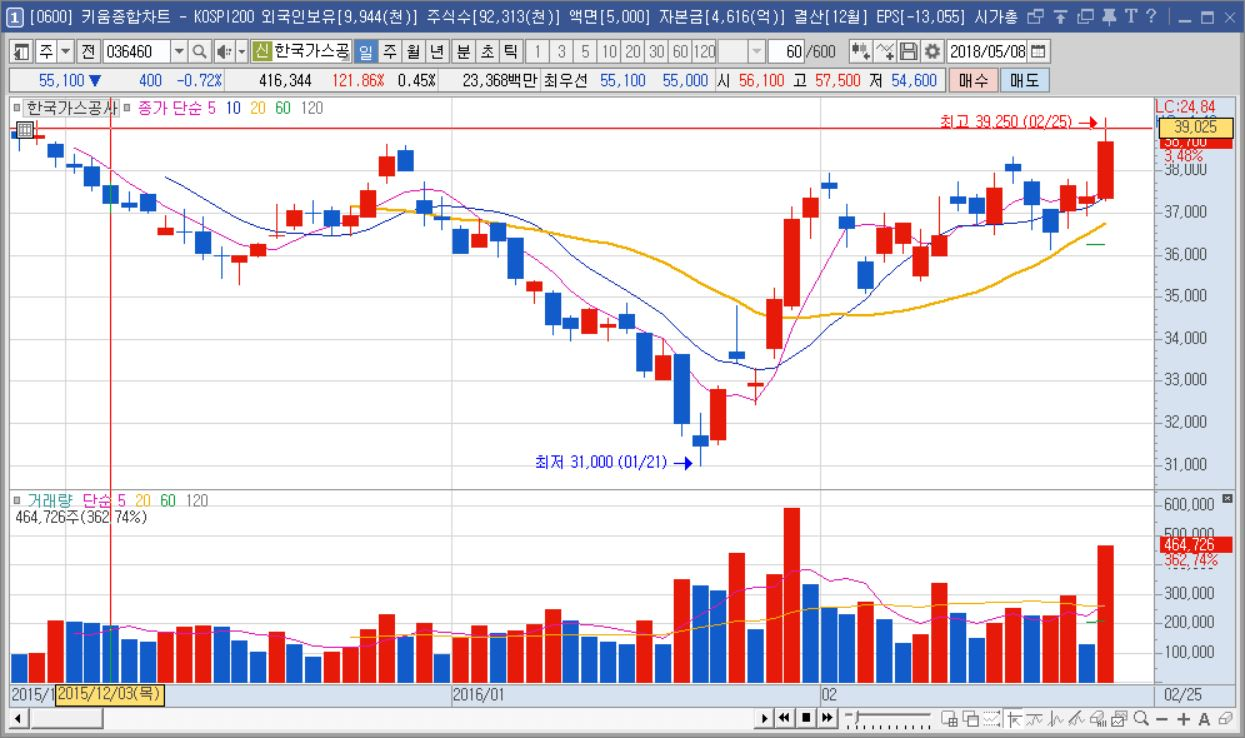up: (692, 107, 1116, 681)
